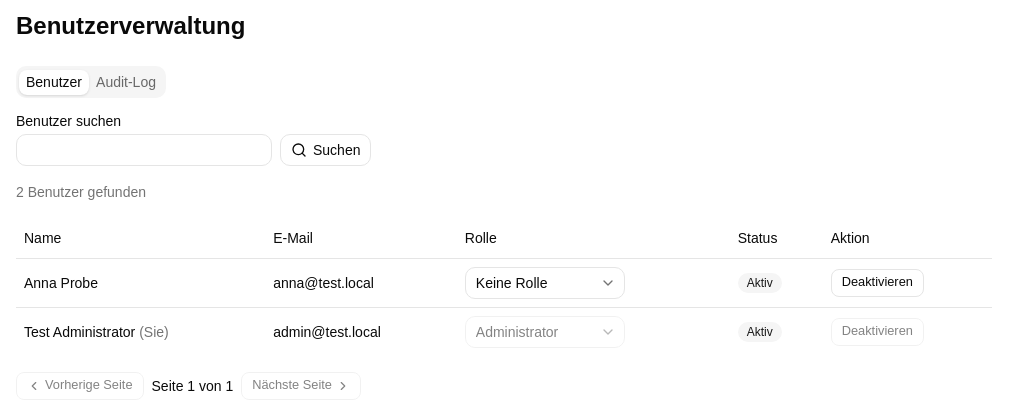
Scenario: Tabs › ordnet den Tab seinem Panel zu (tabpanel mit Namen des Tabs)
Step 1. Click the tab "Audit-Log" → click(126, 82), box [89,70,163,94]
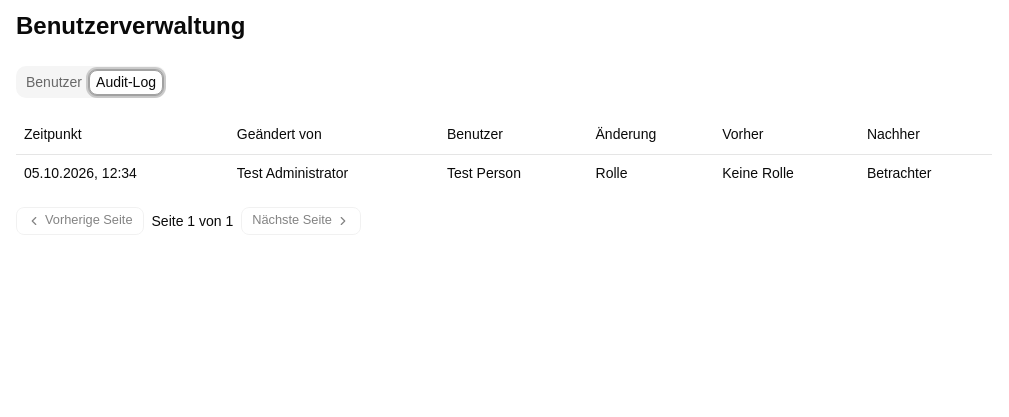
expect the panel named "Audit-Log" is shown: met, box [16,106,992,234]
